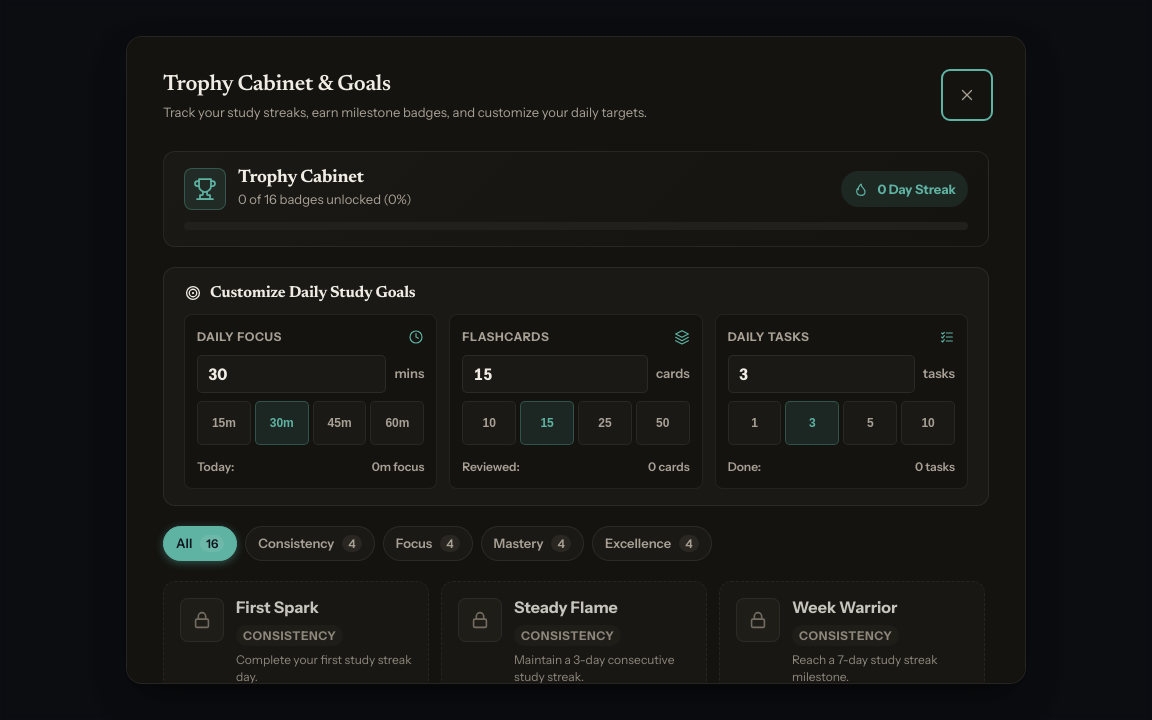
AchievementsModal › floors the minutes goal at 5 (its own input's stated minimum) rather than 1
Replace the text in the number field named "Daily focus goal in minutes" with "1" at (292, 374), box [197,355,386,393]
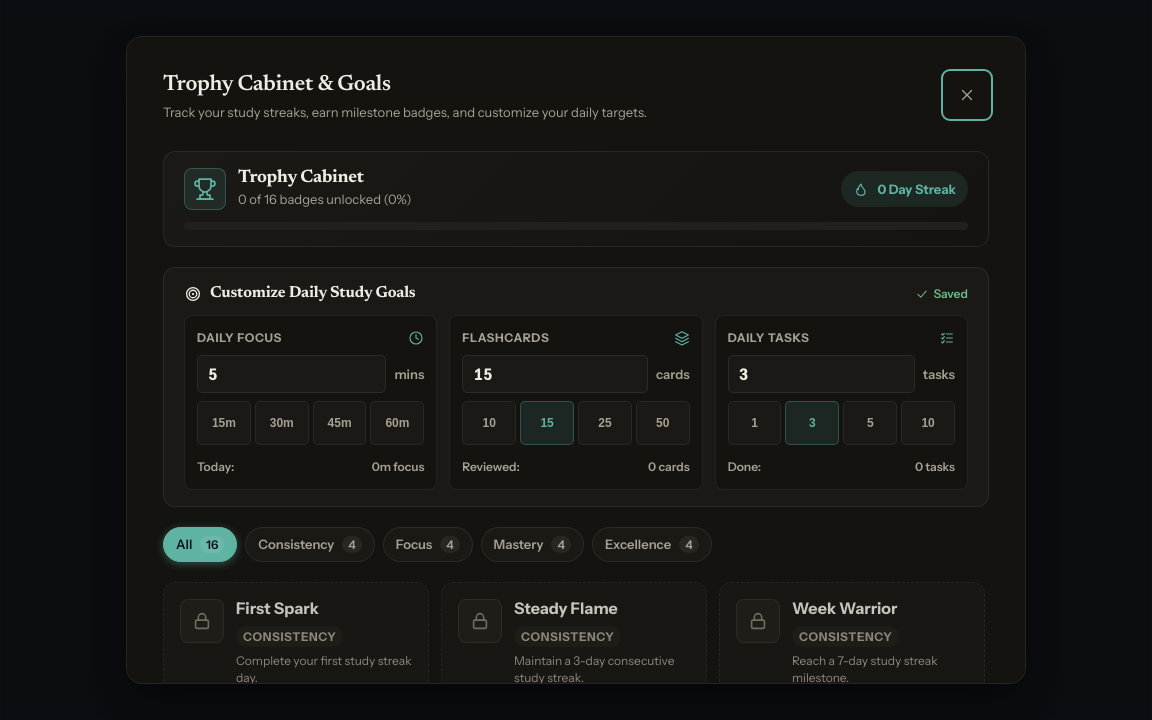
Expected: the number field named "Daily focus goal in minutes" holds "5", [197,356,386,394]
